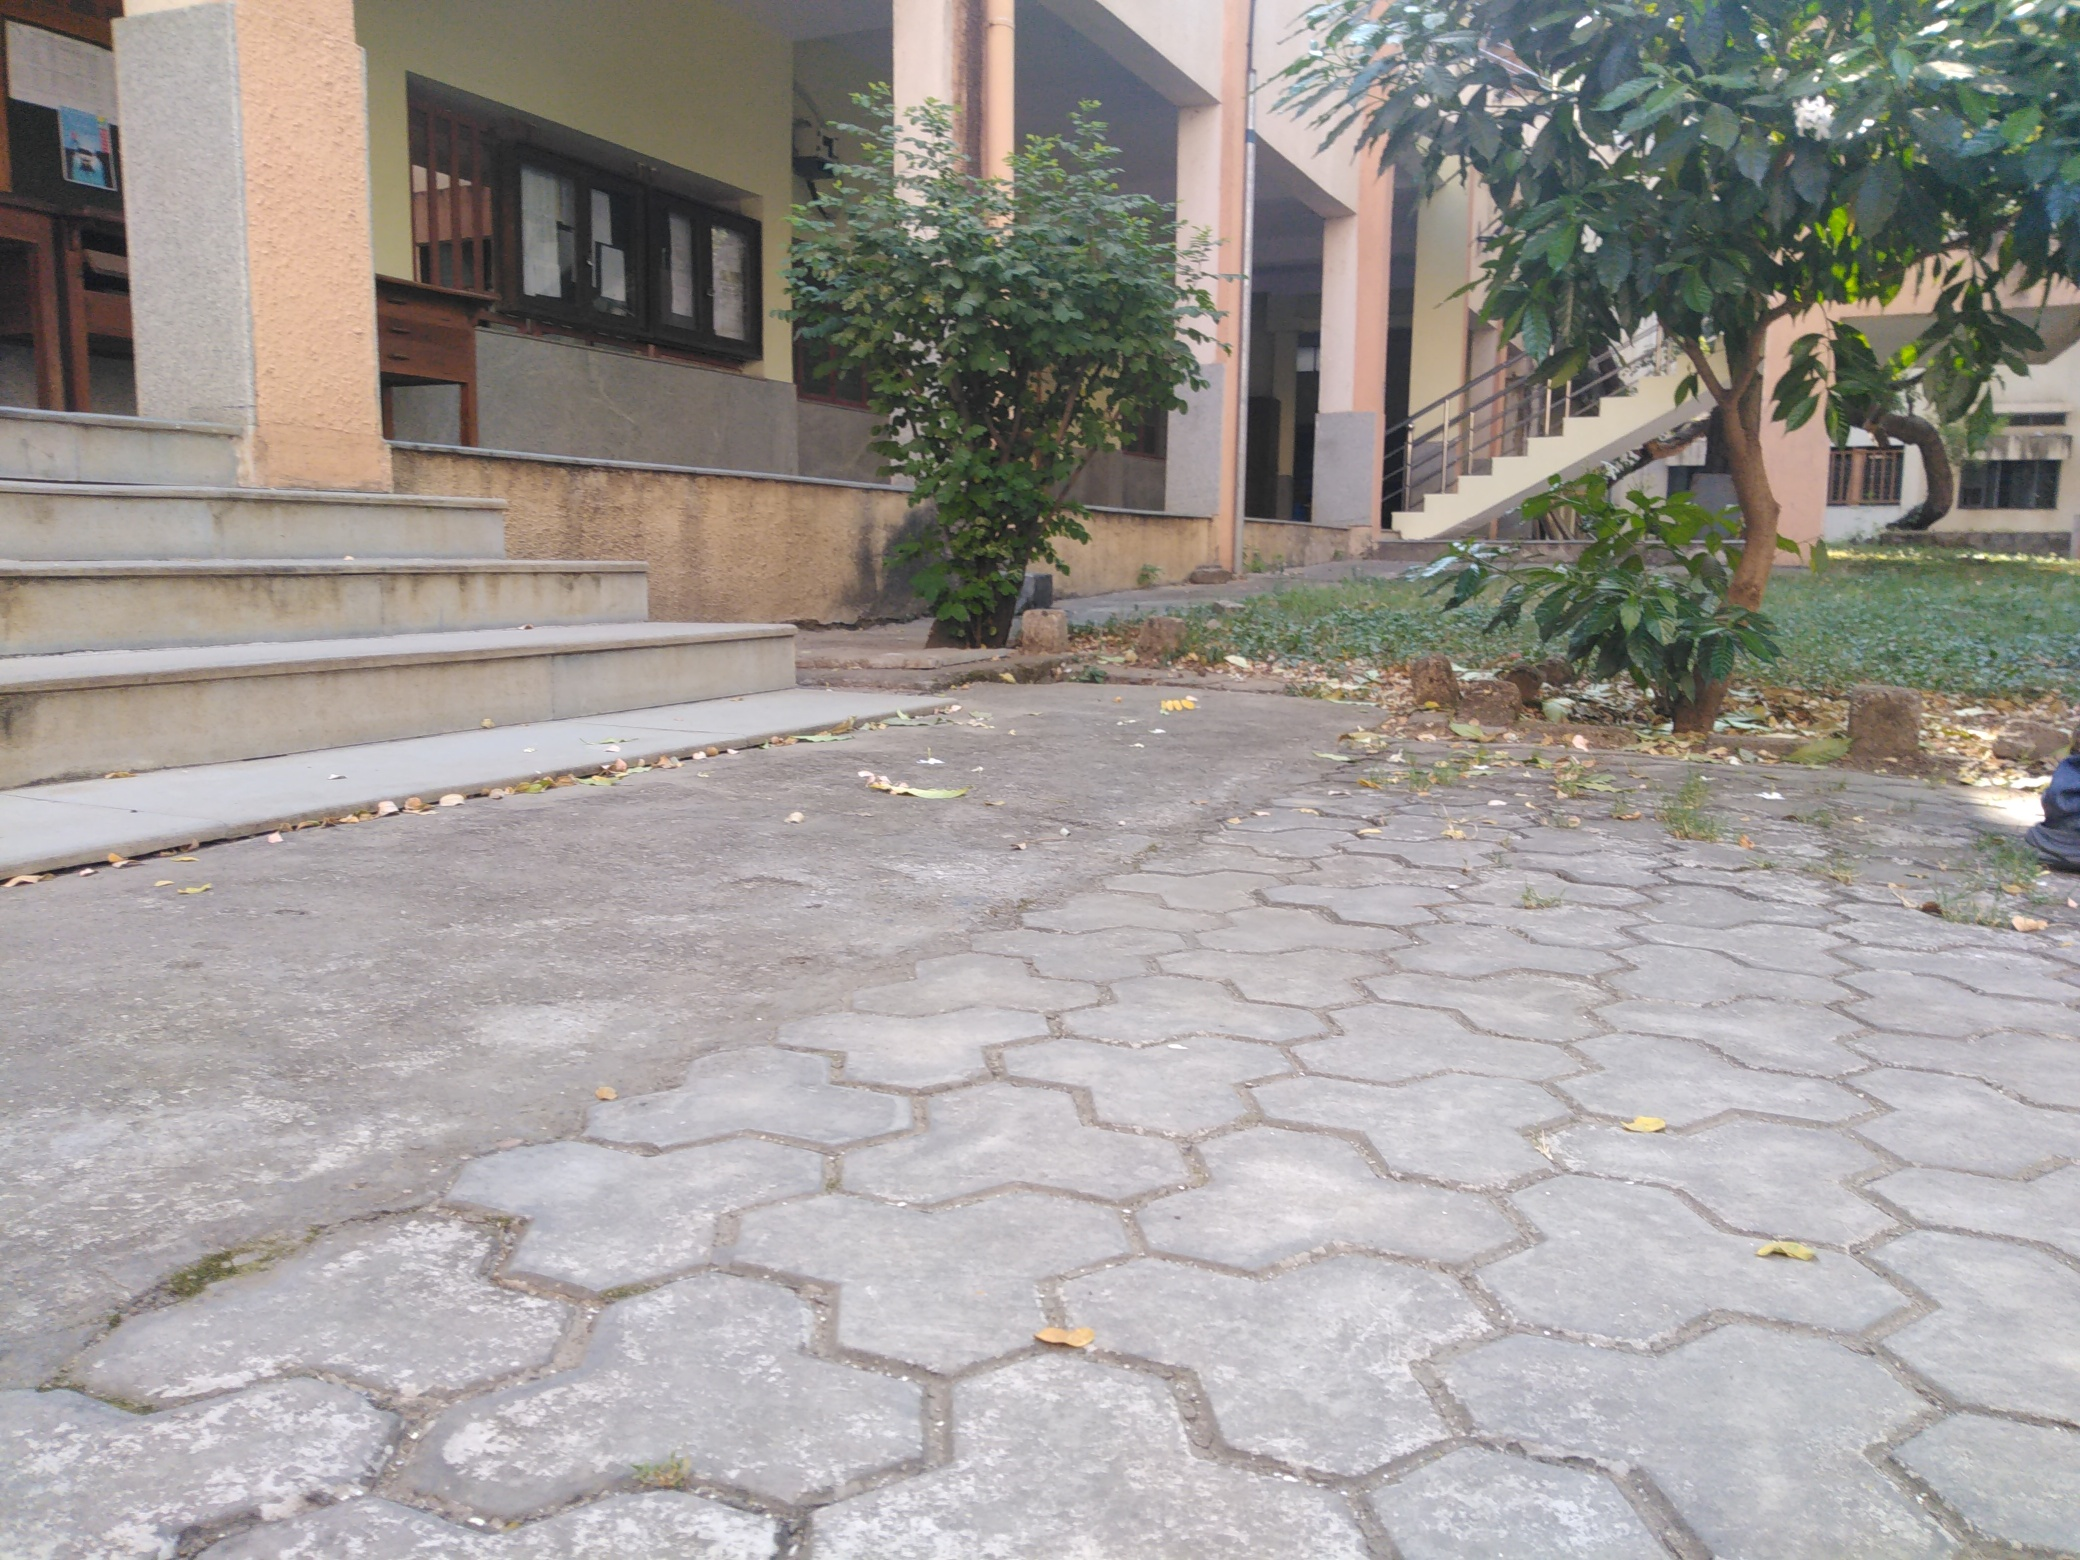stairs_up: (7, 392, 793, 760)
